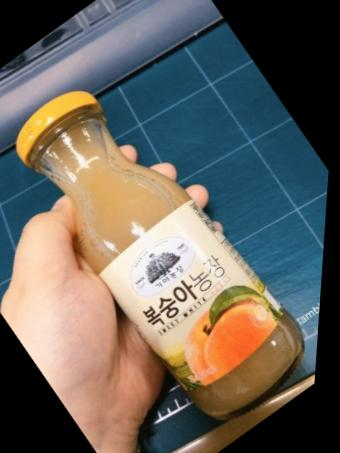glass: (0, 37, 338, 447)
